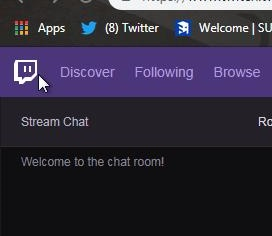cursor: (36, 71, 52, 95)
